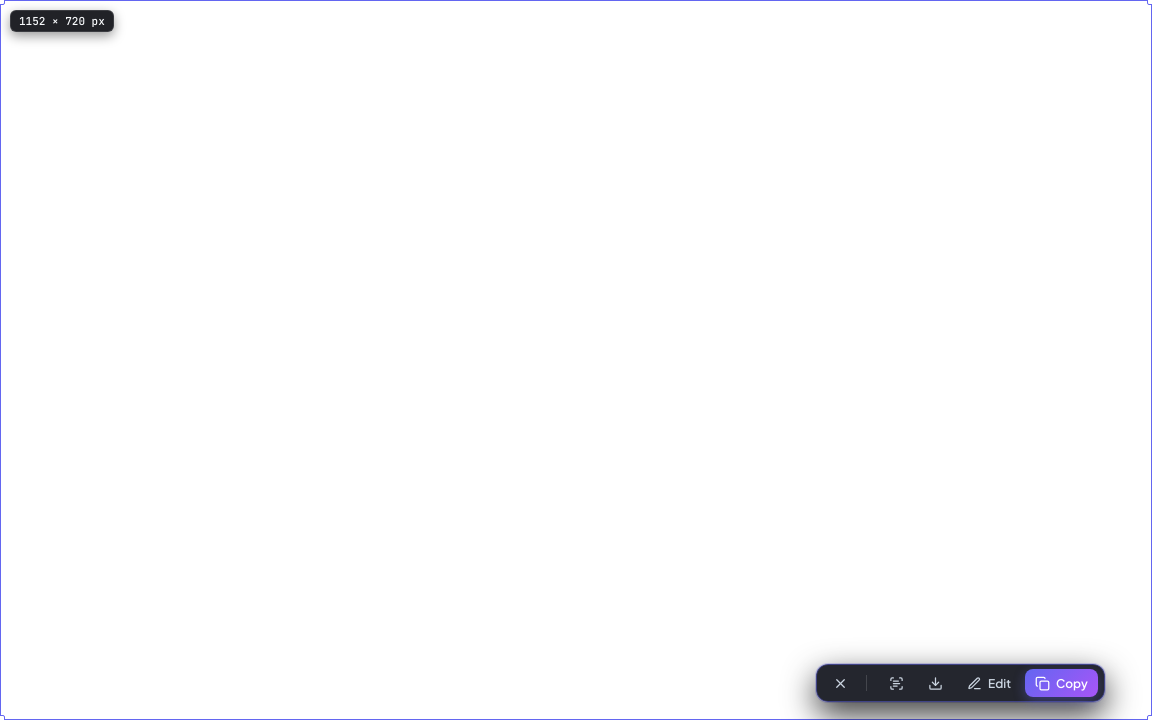
it: overlay feedback › shows an error toast containing the command failure
Click the button "Copy" at (1062, 683), box [1025,669,1098,697]
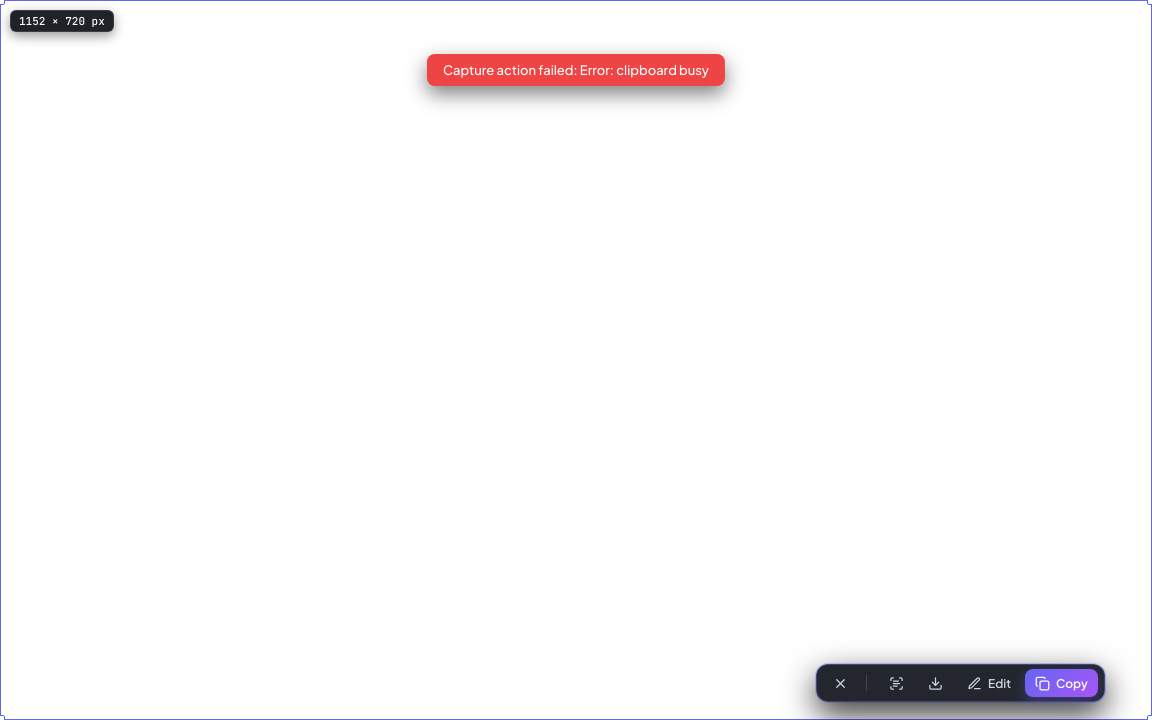
Check: the text "Capture action failed: Error: clipboard busy" is shown, box [427,54,725,86]
